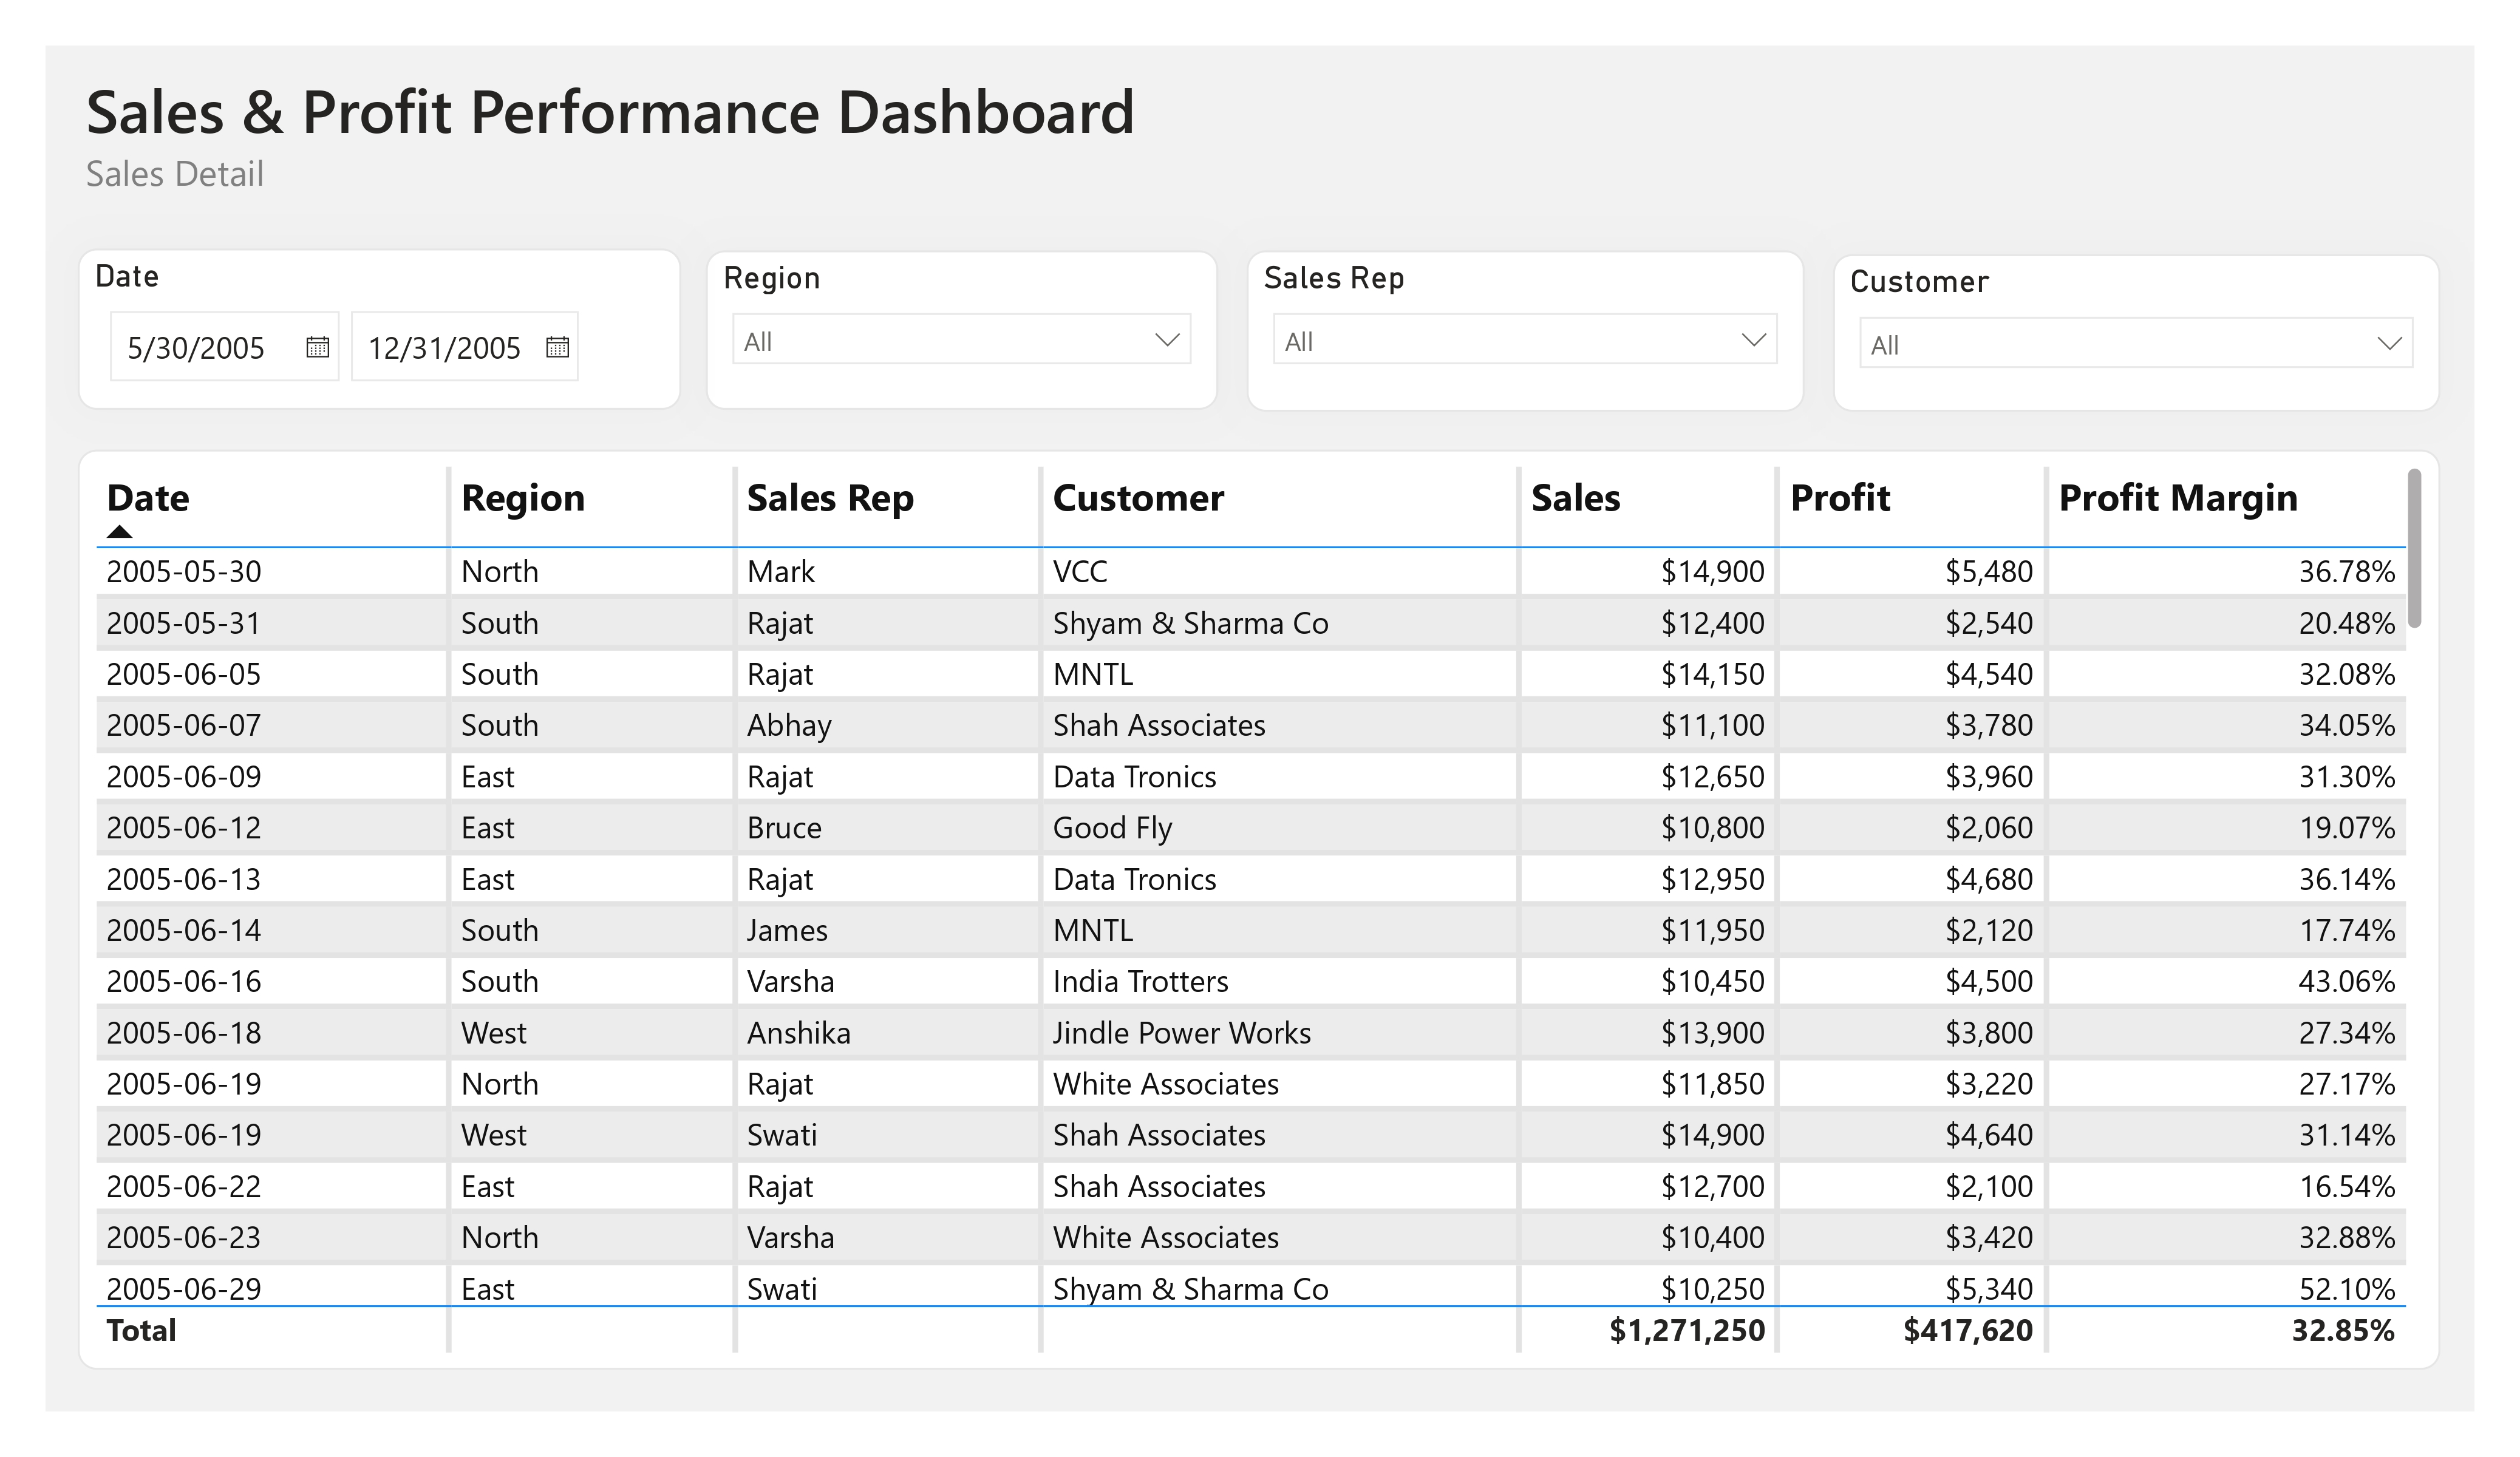

The dashboard page shown, as its layout file describes it:
{"tool":"powerbi","page":{"name":"Sales Detail","canvas":[1280,720],"ordinal":1},"visuals":[{"type":"tableEx","fields":{"Values":["DataModel.Date","DataModel.Region","DataModel.Sales Rep","DataModel.CustomerName","Sum(DataModel.Sales)","Sum(DataModel.Profit)","DataModel.Profit Margin"]},"box":[16.7,213.3,1245,485],"z":2000},{"type":"textbox","box":[16.2,6.2,718.8,77.5],"z":3000},{"type":"slicer","title":"Region","fields":{"Values":["DataModel.Region"]},"box":[348.3,108.3,270,83.3],"z":4000},{"type":"slicer","title":"Date","fields":{"Values":["DataModel.Date"]},"box":[16.7,106.7,318.3,85],"z":5000},{"type":"slicer","title":"Sales Rep","fields":{"Values":["DataModel.Sales Rep"]},"box":[633.3,108.3,293.3,85],"z":6000},{"type":"slicer","title":"Customer","fields":{"Values":["DataModel.CustomerName"]},"box":[941.7,110,320,83.3],"z":7000}]}

Visuals, with their boxes on the page's 1280x720 design canvas (x1, y1, x2, y2). These are canvas units, not pixel positions in the 2520x1457 screenshot, which may show the page scaled, cropped or inside an application window:
tableEx - DataModel.Date x DataModel.Region: 17 213 1262 698
textbox: 16 6 735 84
"Region" slicer: 348 108 618 192
"Date" slicer: 17 107 335 192
"Sales Rep" slicer: 633 108 927 193
"Customer" slicer: 942 110 1262 193
